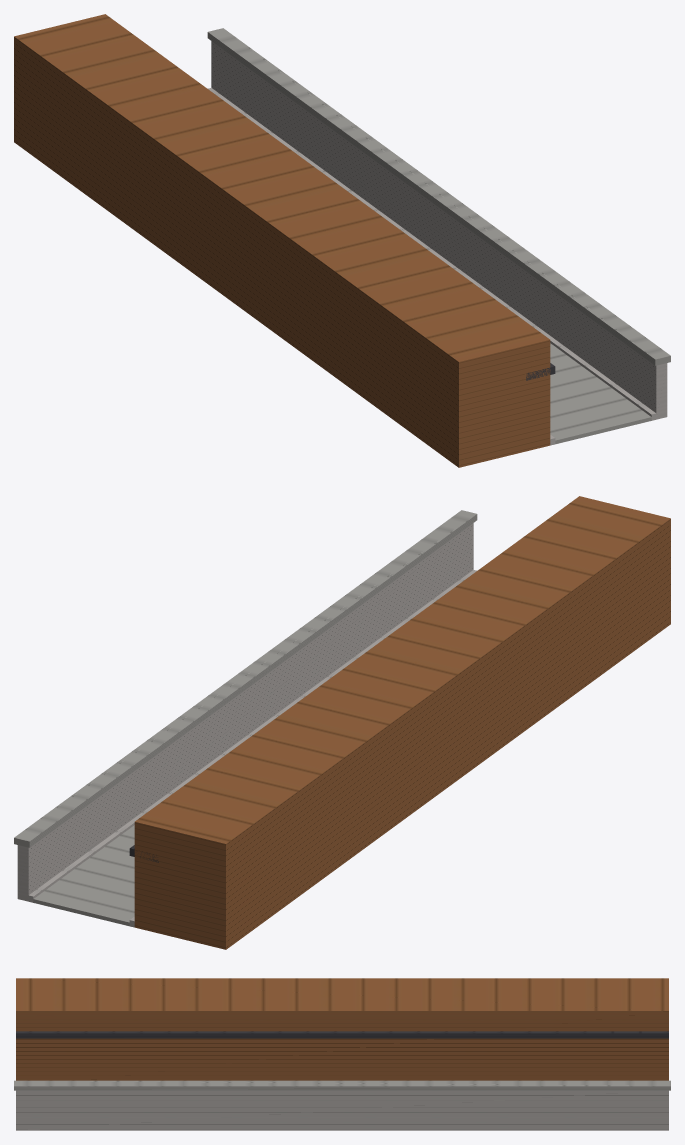
The picture shows the model from 3 angles, top to bottom: view 1: azimuth 30°, elevation 25°; view 2: azimuth 150°, elevation 25°; view 3: azimuth 270°, elevation 25°; orthographic projection. The views are drawn at different scales.
Visible parts, largest first — view 1: node_component_11110_02_03052_002_03_cafe_facades, node_component_11110_02_03052_002_02_sagoseok_walls, node_component_11110_02_03052_002_01_granite_road; view 2: node_component_11110_02_03052_002_03_cafe_facades, node_component_11110_02_03052_002_02_sagoseok_walls, node_component_11110_02_03052_002_01_granite_road; view 3: node_component_11110_02_03052_002_03_cafe_facades, node_component_11110_02_03052_002_02_sagoseok_walls.
Boxes of the visible parts, x1,y1,x2,y2 form: node_component_11110_02_03052_002_03_cafe_facades: (14, 14, 555, 467); node_component_11110_02_03052_002_02_sagoseok_walls: (207, 28, 670, 419); node_component_11110_02_03052_002_01_granite_road: (208, 88, 656, 445); node_component_11110_02_03052_002_03_cafe_facades: (129, 496, 670, 949); node_component_11110_02_03052_002_02_sagoseok_walls: (14, 510, 477, 901); node_component_11110_02_03052_002_01_granite_road: (28, 570, 476, 927); node_component_11110_02_03052_002_03_cafe_facades: (16, 978, 668, 1080); node_component_11110_02_03052_002_02_sagoseok_walls: (14, 1080, 670, 1130).
Size of the model in its own units: 8.75 by 4.2 by 32.2.
Materials: 4 (4 with a texture image).
